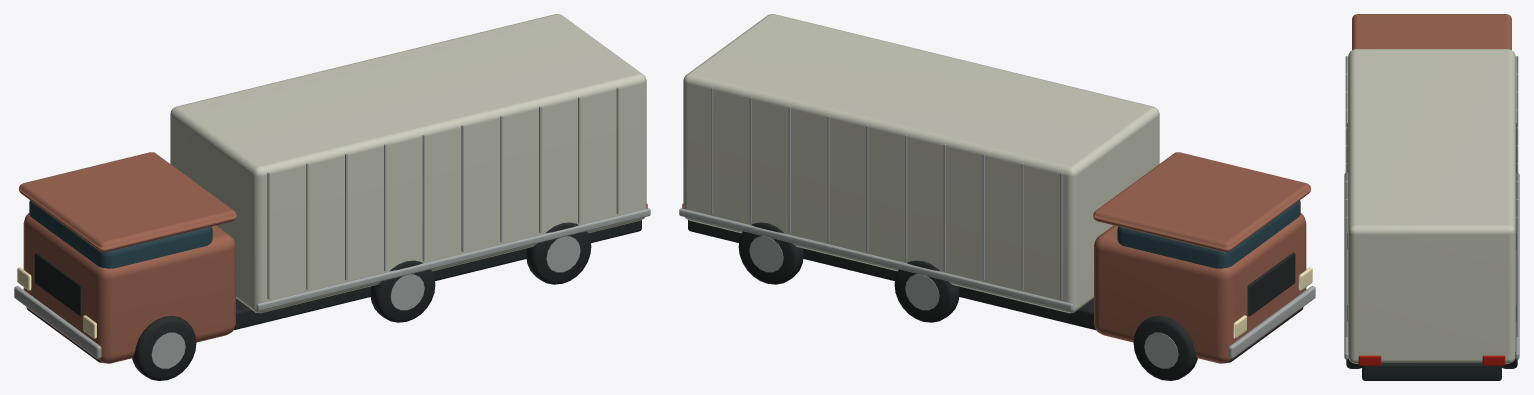
The model's file is truck.glb.
The picture shows the model from 3 angles, left to right: view 1: azimuth 30°, elevation 25°; view 2: azimuth 150°, elevation 25°; view 3: azimuth 270°, elevation 25°; orthographic projection. The views are drawn at different scales.
Parts seen in each view (by area): view 1: Truck / coachwork; view 2: Truck / coachwork; view 3: Truck / coachwork.
Part boxes in pixels (left/top/right/bottom): Truck / coachwork: left=14, top=14, right=650, bottom=380; Truck / coachwork: left=679, top=14, right=1315, bottom=380; Truck / coachwork: left=1344, top=14, right=1519, bottom=380.
Bounding box in the file's own units: 8 × 2.6 × 2.32.
